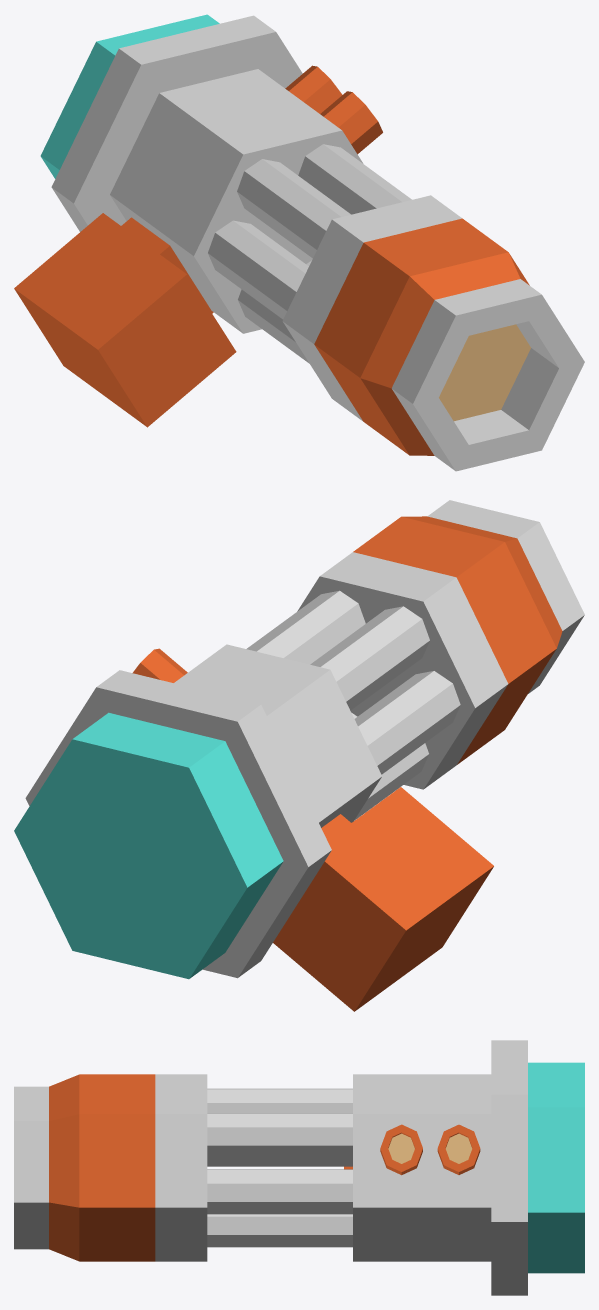
File: turret_top.glb
3 views of the same model, one above another, from view 1: azimuth 30°, elevation 25°; view 2: azimuth 150°, elevation 25°; view 3: azimuth 270°, elevation 25° (orthographic). The views are drawn at different scales.
Parts seen in each view (by area): view 1: Cylinder; view 2: Cylinder; view 3: Cylinder.
Part boxes in pixels (<box>): Cylinder: <box>14,14,584,471</box>; Cylinder: <box>14,500,584,1011</box>; Cylinder: <box>14,1040,584,1295</box>.
Size of the model in its own units: 1.27 by 1 by 2.28.
